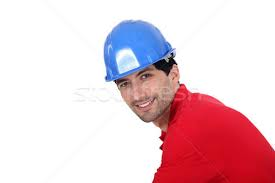Person_wearing_helmet: (99, 14, 179, 90)
